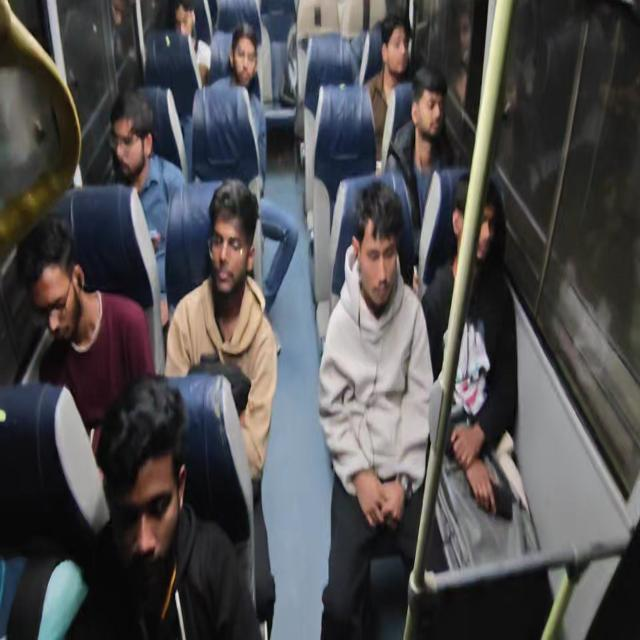person: (2, 372, 263, 639), (318, 180, 434, 638), (163, 178, 278, 636), (421, 173, 518, 520), (16, 214, 156, 453), (105, 90, 187, 315), (383, 64, 458, 280), (210, 23, 267, 192), (363, 12, 414, 172), (214, 23, 262, 103), (173, 1, 211, 87), (447, 7, 472, 107)
